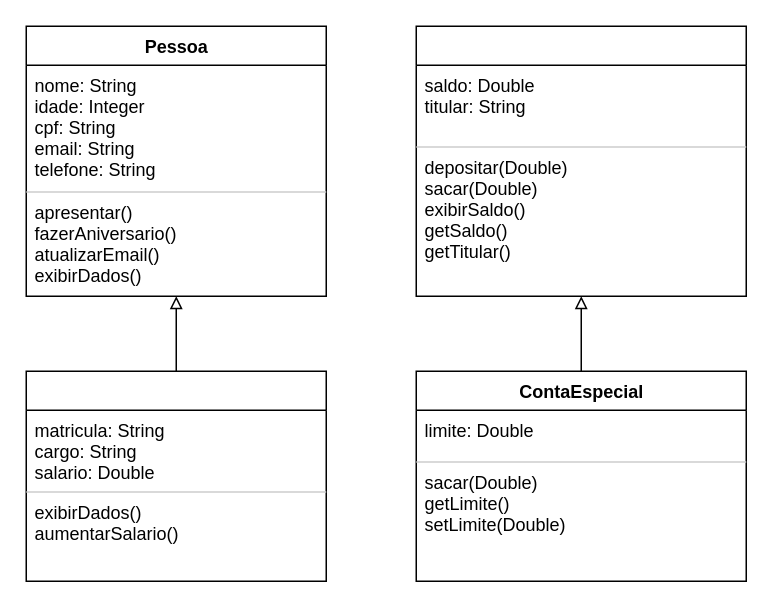
Image size: 773x612. Some labels were removed from this diagram. The shapes that lost their labels are listed below. From the top down, each one's box as (x1, y1, x2, y2) in pixels, then its label:
(415, 25, 746, 296): ContaBancaria
(25, 370, 326, 581): Funcionario
